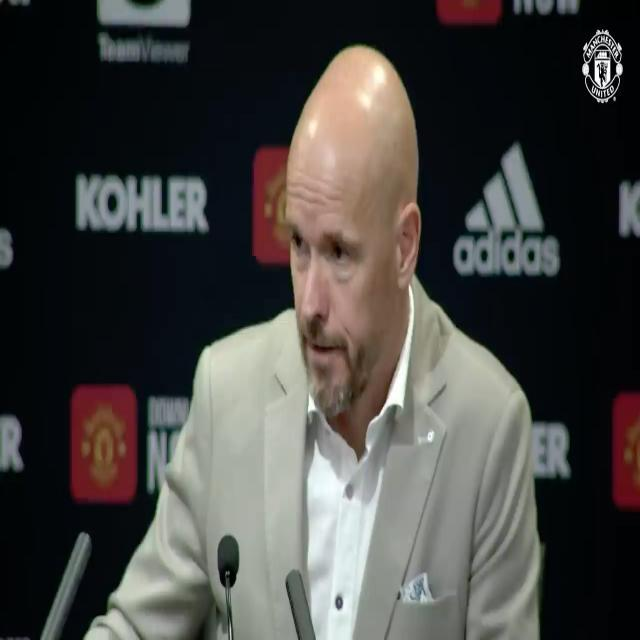Adidas: (454, 143, 560, 272)
Kohler: (75, 174, 208, 231)
TeamViewer: (98, 0, 189, 62)
